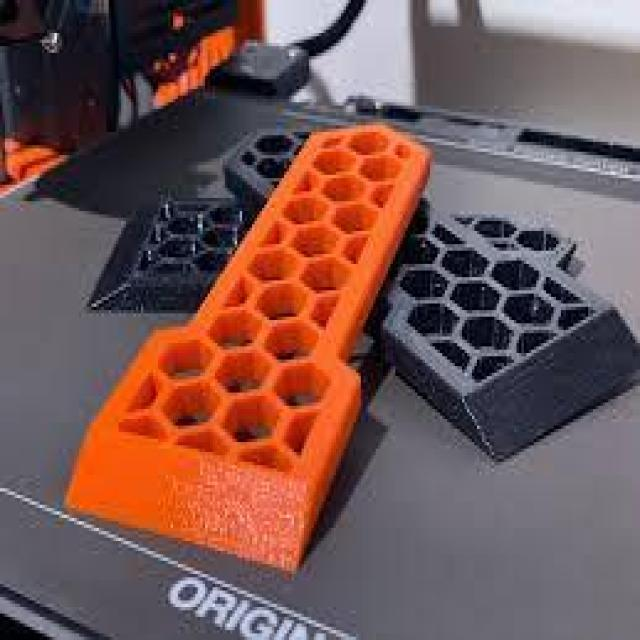Without deffect: (81, 86, 640, 584)
